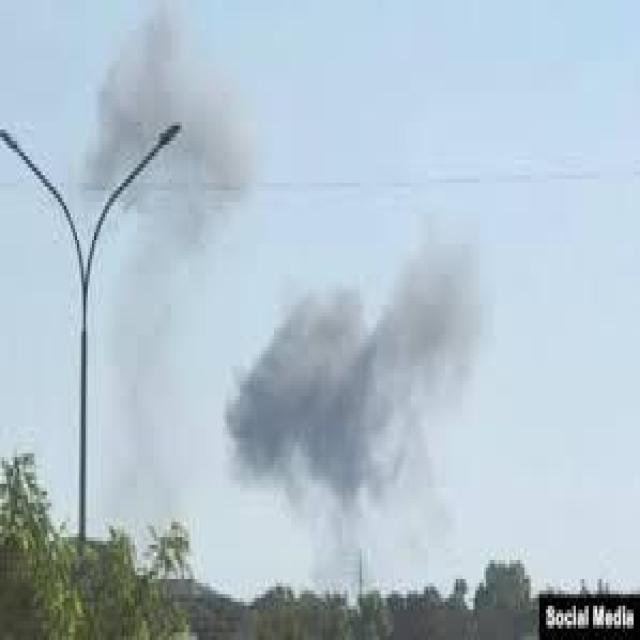Smoke: (86, 27, 237, 446), (233, 283, 473, 523)
